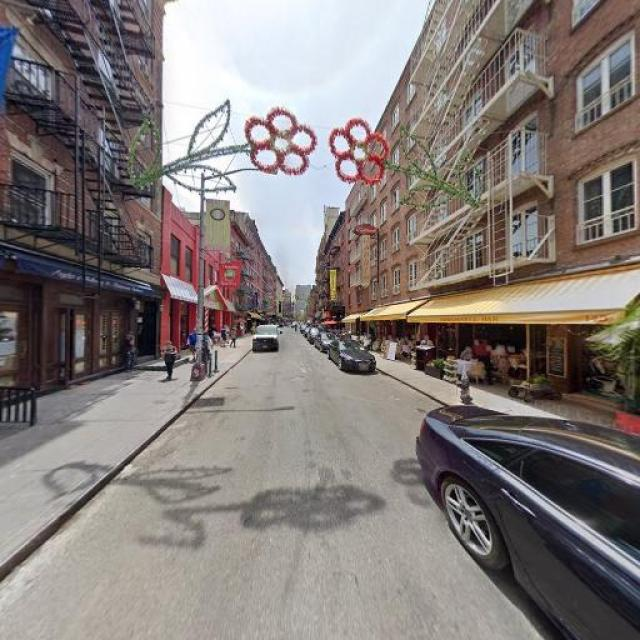Building: (370, 1, 640, 427), (1, 1, 163, 404)
